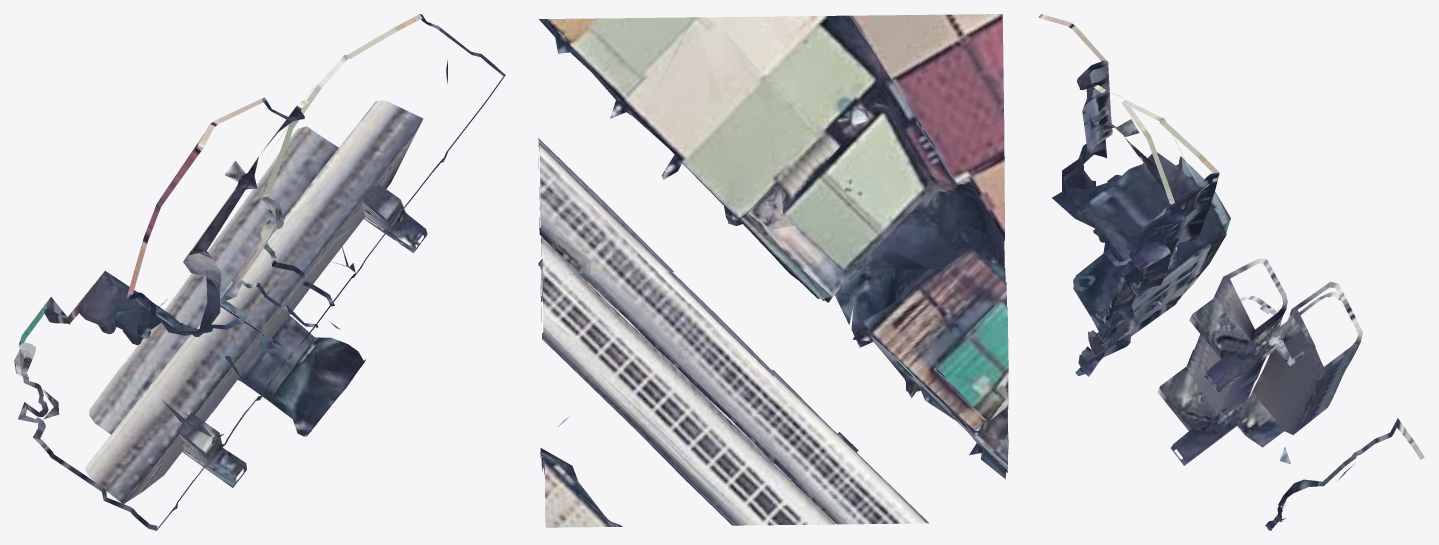
The picture shows the model from 3 angles, left to right: view 1: azimuth 30°, elevation 25°; view 2: azimuth 150°, elevation 25°; view 3: azimuth 270°, elevation 25°; orthographic projection. The views are drawn at different scales.
Bounding box in the file's own units: 43.45 × 40.12 × 33.98.
2 materials, 2 textured.
